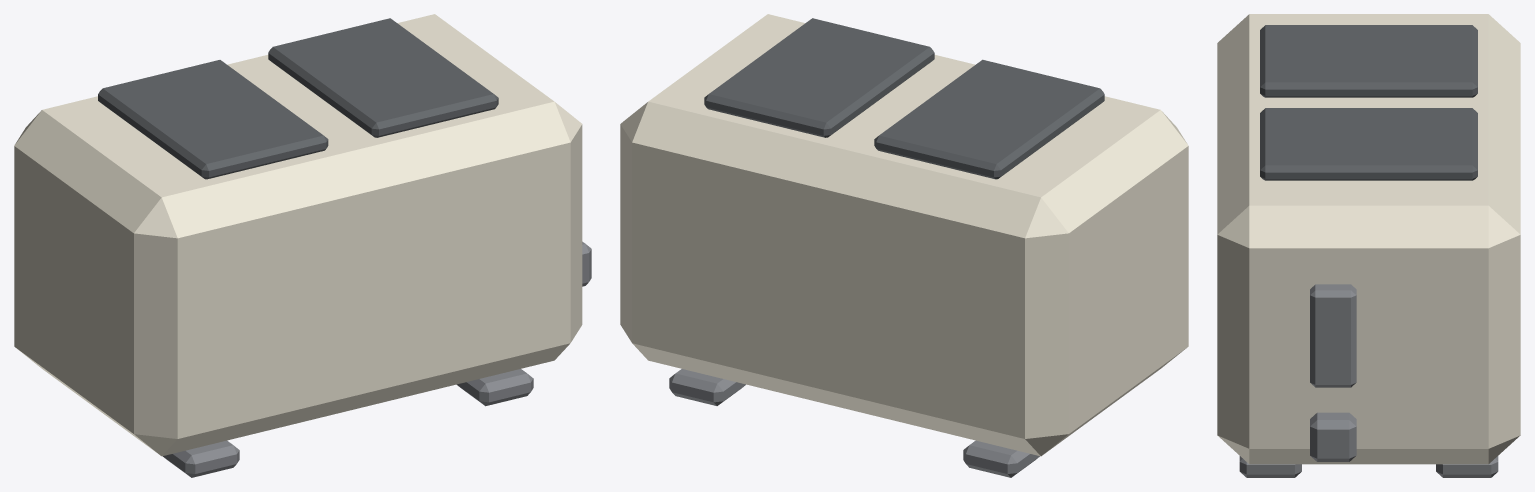
File: toaster.glb
The picture shows the model from 3 angles, left to right: view 1: azimuth 30°, elevation 25°; view 2: azimuth 150°, elevation 25°; view 3: azimuth 270°, elevation 25°; orthographic projection.
Visible parts, largest first — view 1: toaster_body_beveled, toaster_slot_left, toaster_slot_right, toaster_foot_-0.095_-0.055, toaster_foot_0.095_-0.055; view 2: toaster_body_beveled, toaster_slot_right, toaster_slot_left, toaster_foot_0.095_0.055, toaster_foot_-0.095_0.055; view 3: toaster_body_beveled, toaster_slot_left, toaster_slot_right, toaster_side_lever, toaster_knob, toaster_foot_0.095_-0.055, toaster_foot_0.095_0.055.
Part boxes in pixels (x1=…): toaster_body_beveled: x1=14, y1=14, x2=582, y2=456; toaster_slot_left: x1=98, y1=60, x2=328, y2=179; toaster_slot_right: x1=268, y1=18, x2=498, y2=137; toaster_foot_-0.095_-0.055: x1=163, y1=440, x2=239, y2=477; toaster_foot_0.095_-0.055: x1=456, y1=369, x2=533, y2=406; toaster_body_beveled: x1=620, y1=14, x2=1188, y2=456; toaster_slot_right: x1=704, y1=18, x2=934, y2=137; toaster_slot_left: x1=874, y1=59, x2=1104, y2=179; toaster_foot_0.095_0.055: x1=669, y1=369, x2=745, y2=405; toaster_foot_-0.095_0.055: x1=963, y1=440, x2=1039, y2=477; toaster_body_beveled: x1=1217, y1=14, x2=1520, y2=464; toaster_slot_left: x1=1260, y1=25, x2=1477, y2=97; toaster_slot_right: x1=1260, y1=108, x2=1477, y2=180; toaster_side_lever: x1=1310, y1=284, x2=1356, y2=387; toaster_knob: x1=1310, y1=412, x2=1356, y2=461; toaster_foot_0.095_-0.055: x1=1239, y1=456, x2=1301, y2=477; toaster_foot_0.095_0.055: x1=1436, y1=456, x2=1498, y2=477.
Size of the model in its own units: 0.318 by 0.186 by 0.17.
